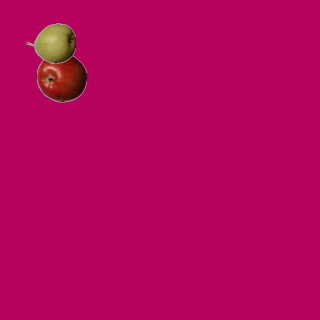Apple Braeburn: (36, 52, 86, 102)
Pear: (25, 18, 75, 68)
